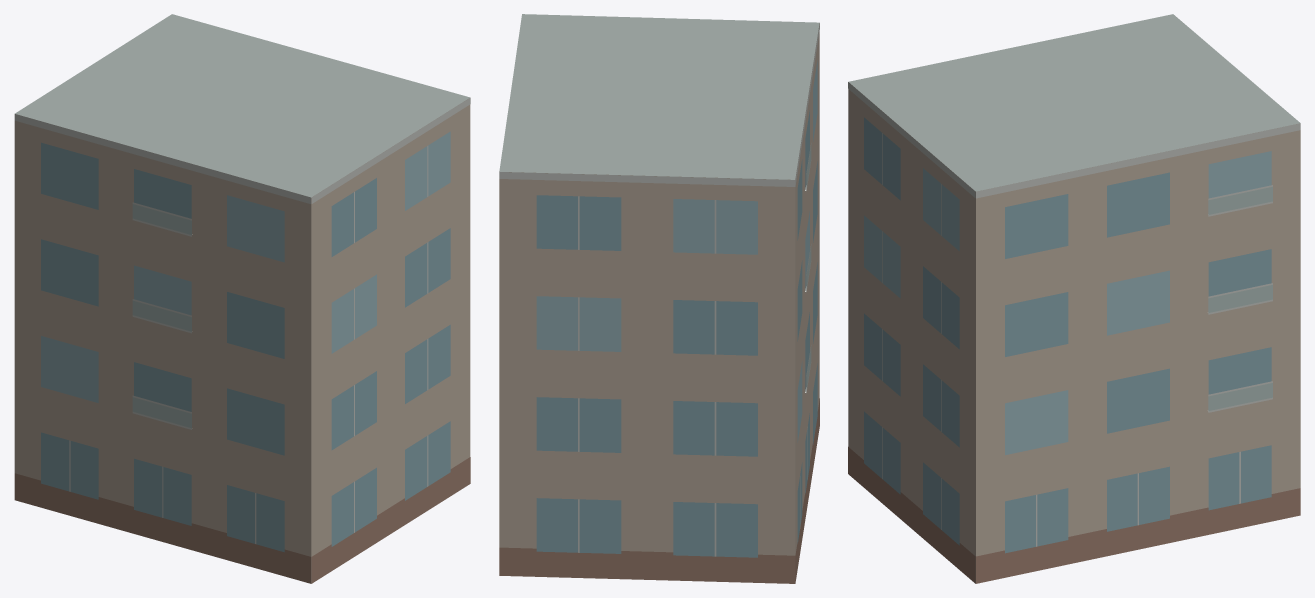
Rendered from survey-upis-32744230.glb.
The picture shows the model from 3 angles, left to right: view 1: azimuth 30°, elevation 25°; view 2: azimuth 150°, elevation 25°; view 3: azimuth 270°, elevation 25°; orthographic projection. The views are drawn at different scales.
Visible parts, largest first — view 1: survey-upis-32744230.tmp; view 2: survey-upis-32744230.tmp; view 3: survey-upis-32744230.tmp.
Boxes of the visible parts, bbox=[...] form: survey-upis-32744230.tmp: bbox=[14, 14, 470, 583]; survey-upis-32744230.tmp: bbox=[499, 14, 819, 583]; survey-upis-32744230.tmp: bbox=[848, 14, 1300, 583].
Bounding box in the file's own units: 13.41 × 13.8 × 14.44.
